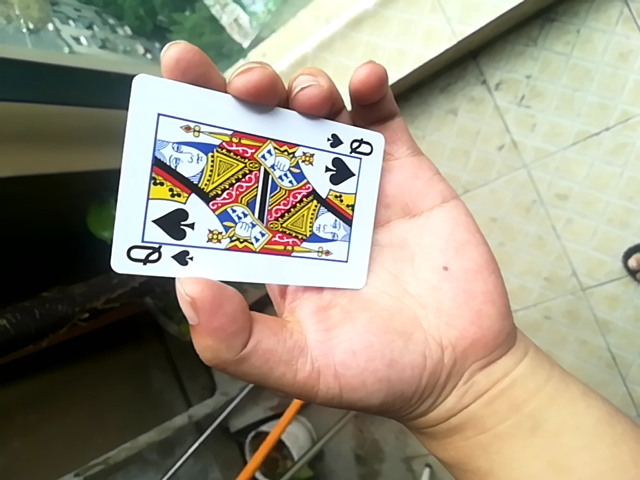ht q: (104, 73, 382, 288)
